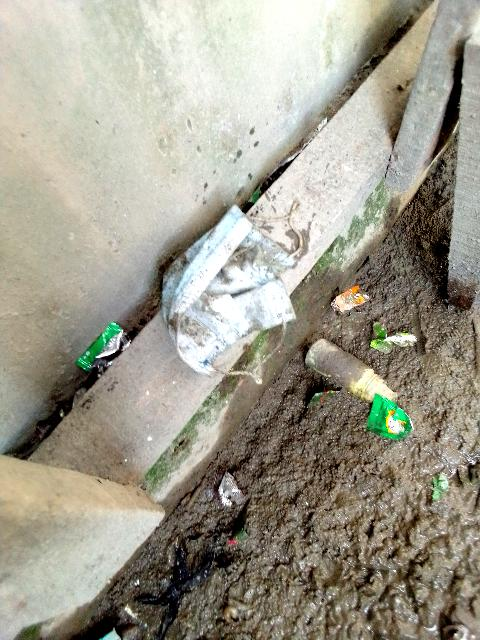mask: (152, 197, 294, 372)
